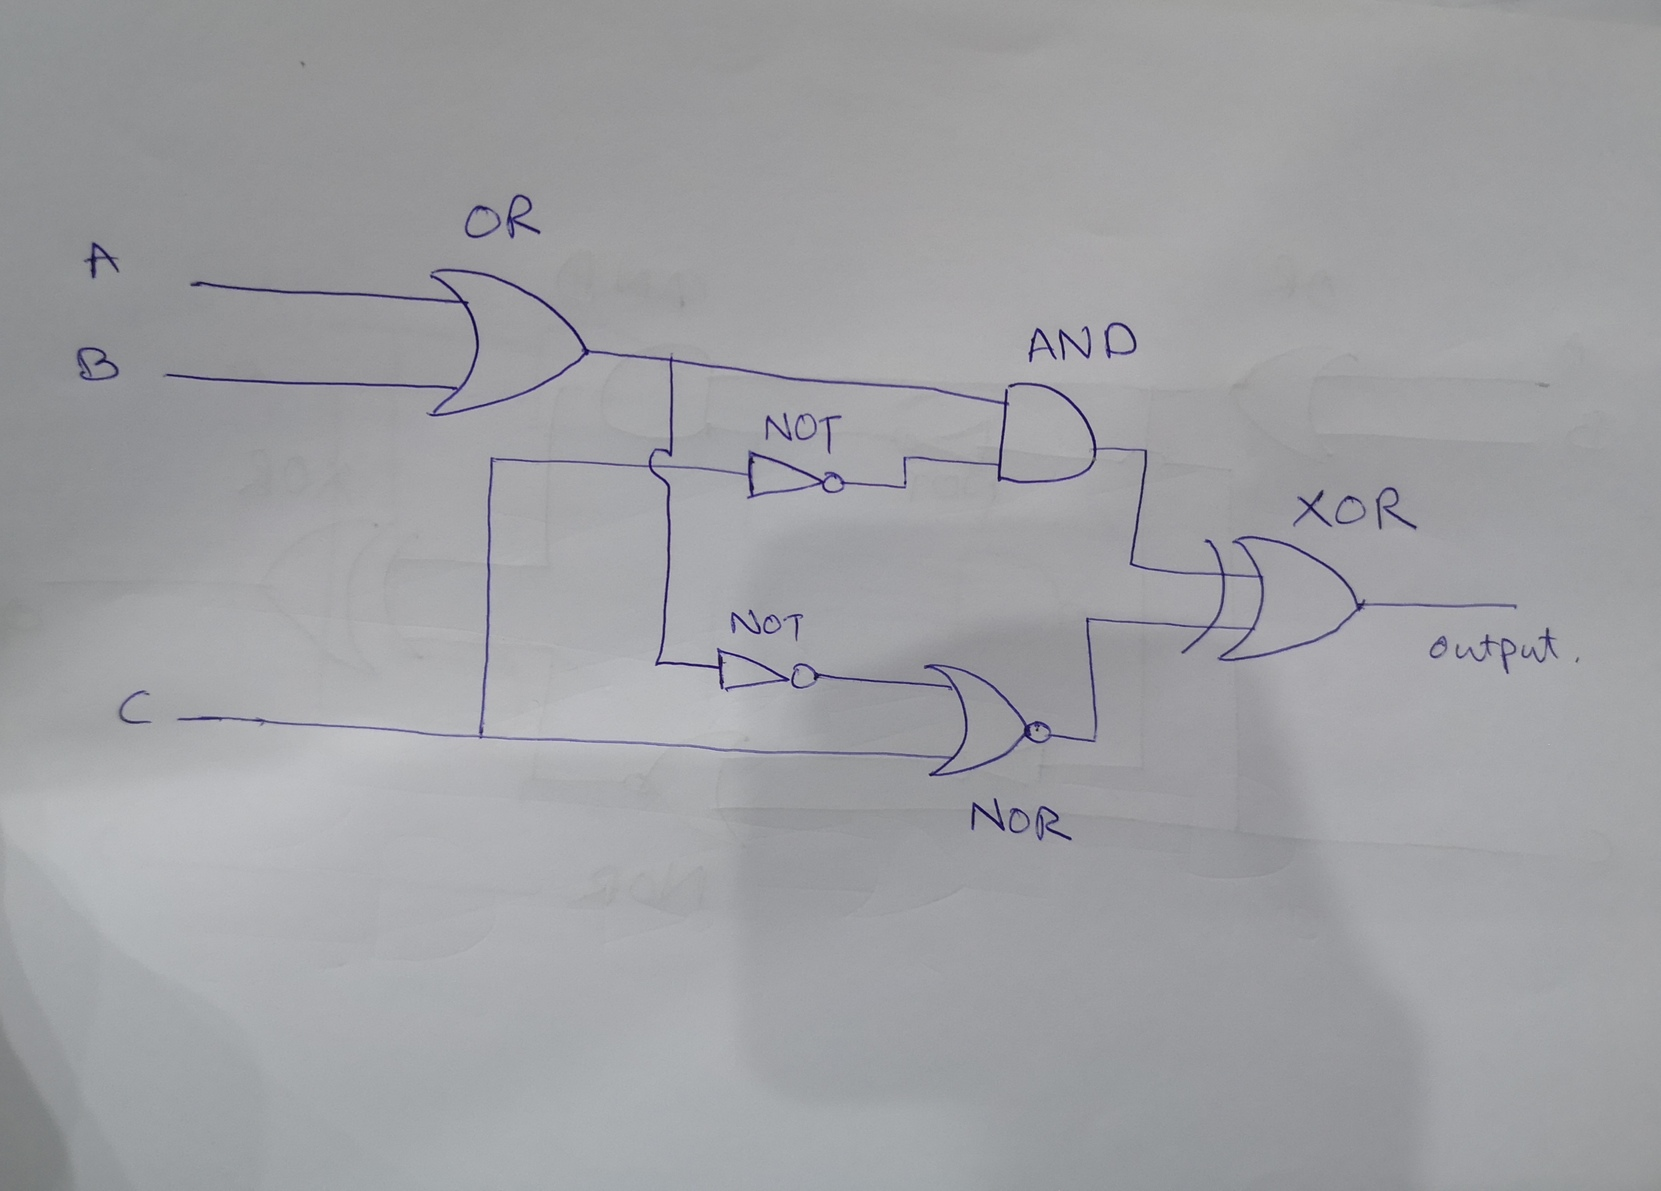and: (992, 376, 1104, 486)
crossover: (643, 443, 677, 491)
junction: (661, 345, 682, 370), (1134, 440, 1157, 460), (1079, 608, 1098, 629), (1085, 730, 1106, 749), (485, 449, 503, 470), (470, 726, 488, 746), (1122, 553, 1140, 574), (649, 652, 667, 672), (897, 481, 910, 494), (897, 452, 910, 463)
nor: (920, 657, 1058, 784)
not: (740, 447, 850, 505), (711, 643, 825, 699)
or: (423, 260, 593, 420)
terminal: (1499, 594, 1530, 615), (155, 363, 180, 384), (184, 272, 206, 295), (170, 710, 189, 730)
text: (1425, 620, 1567, 681), (1289, 481, 1424, 537), (969, 793, 1077, 849), (1024, 320, 1140, 367), (457, 193, 545, 245), (760, 409, 847, 458), (722, 605, 805, 643), (68, 336, 126, 387), (79, 231, 126, 285), (116, 682, 158, 726)
xor: (1174, 530, 1375, 666)
